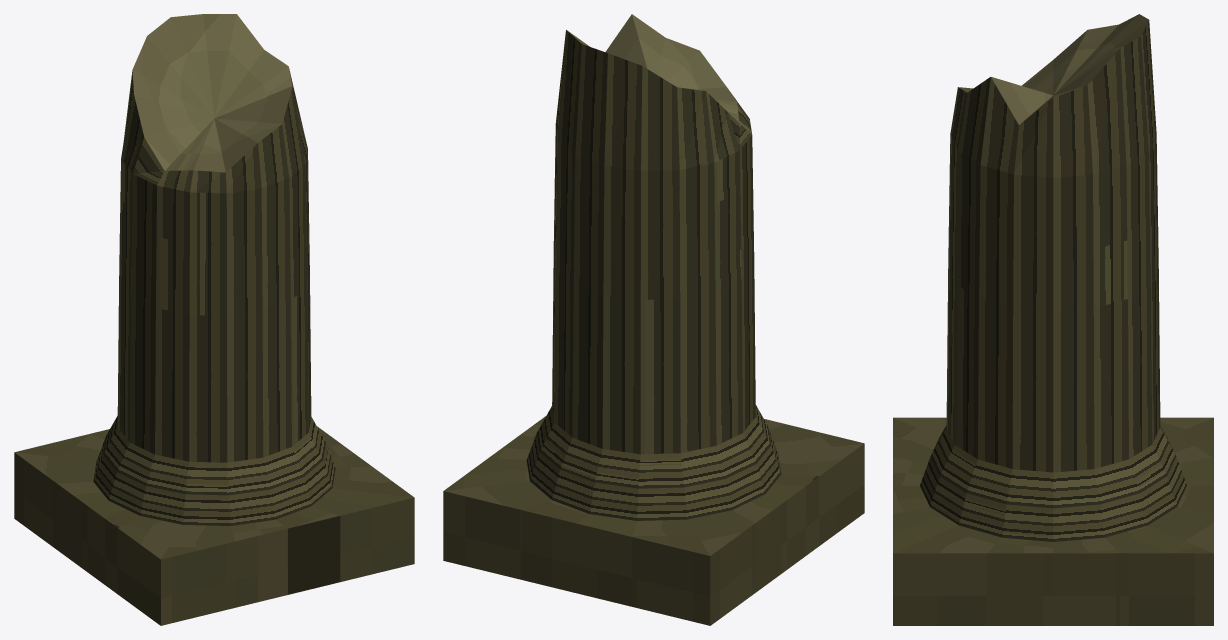
The model's file is marble_column_broken.glb.
The picture shows the model from 3 angles, left to right: view 1: azimuth 30°, elevation 25°; view 2: azimuth 150°, elevation 25°; view 3: azimuth 270°, elevation 25°; orthographic projection. The views are drawn at different scales.
Visible parts, largest first — view 1: MarbleColumnBroken; view 2: MarbleColumnBroken; view 3: MarbleColumnBroken.
Boxes of the visible parts, box(x1,y1,x2,y2) form: MarbleColumnBroken: box(14, 14, 414, 625); MarbleColumnBroken: box(443, 14, 864, 625); MarbleColumnBroken: box(893, 14, 1213, 625).
Size of what is drawn, in the model's own units: 1.2 by 2.22 by 1.2.
1 material, 1 textured.
